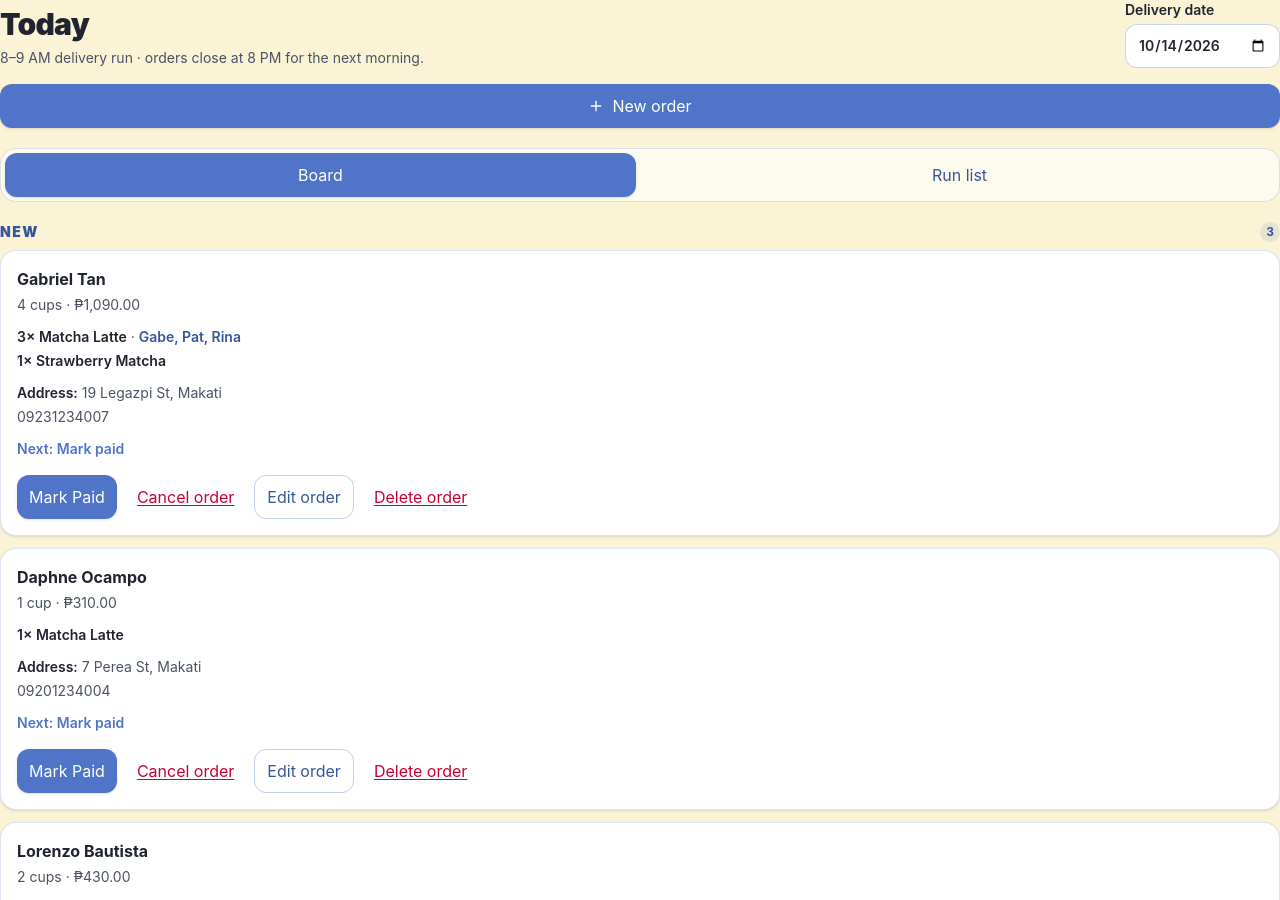
Test: TodayBoard › scopes orders by the selected delivery date
The width and height of the screenshot is (1280, 900).
Expected: the heading "Lorenzo Bautista" is shown, x1=17 y1=839 x2=148 y2=863
Expected: the heading "Bianca Mendoza" is not shown
Type "2099-01-06" into the date field labelled "Delivery date" at (1202, 46), box x1=1125 y1=24 x2=1279 y2=68
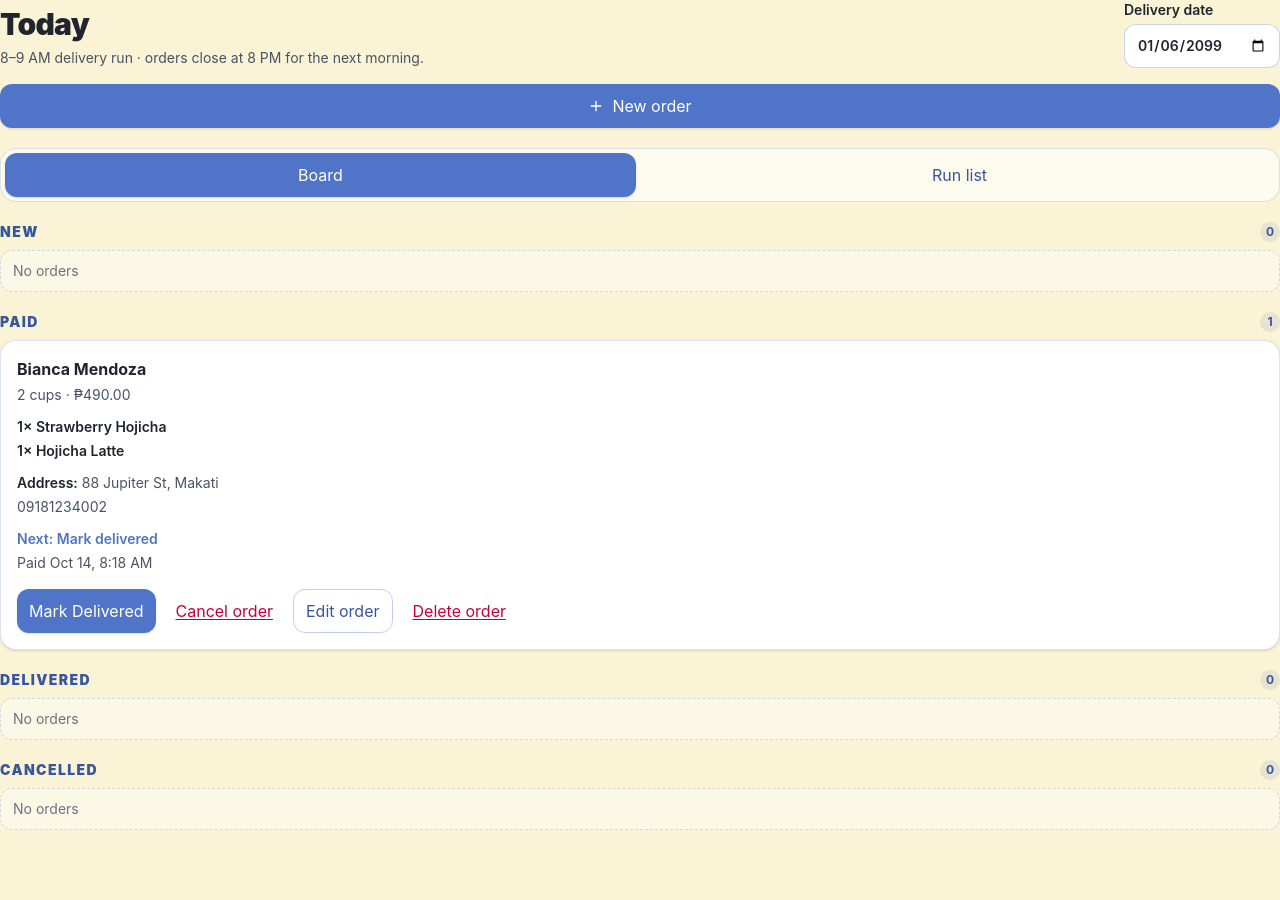
Expected: the heading "Bianca Mendoza" is shown, x1=17 y1=357 x2=146 y2=381
Expected: the heading "Lorenzo Bautista" is gone
